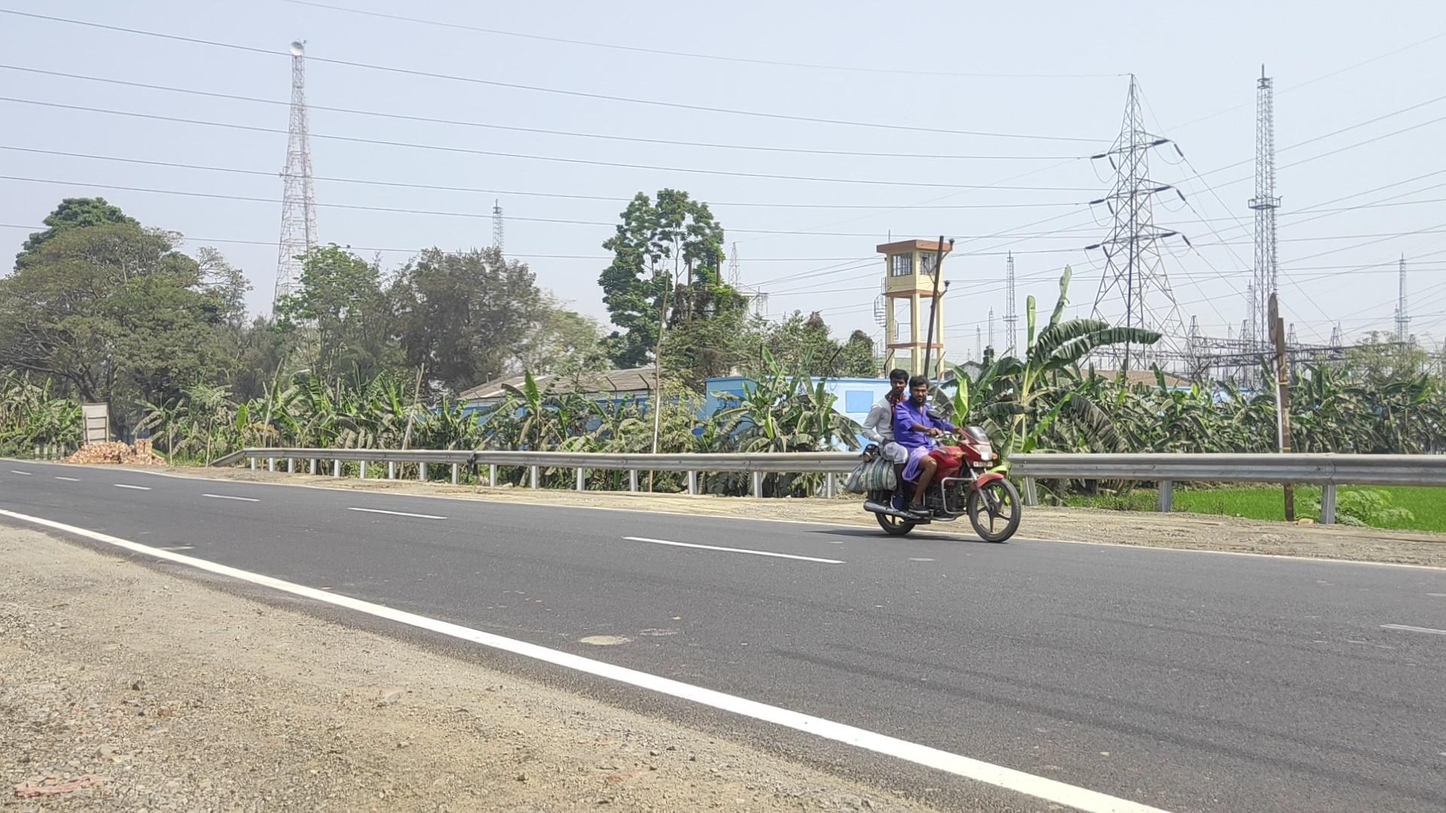bike: (850, 370, 1021, 542)
